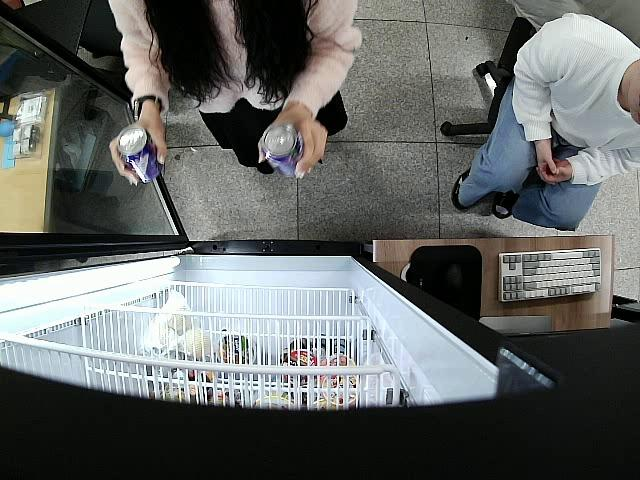00_hand: (257, 114, 328, 182), (109, 121, 168, 189)
14_welchsGrape: (261, 121, 303, 183), (116, 125, 160, 184)
